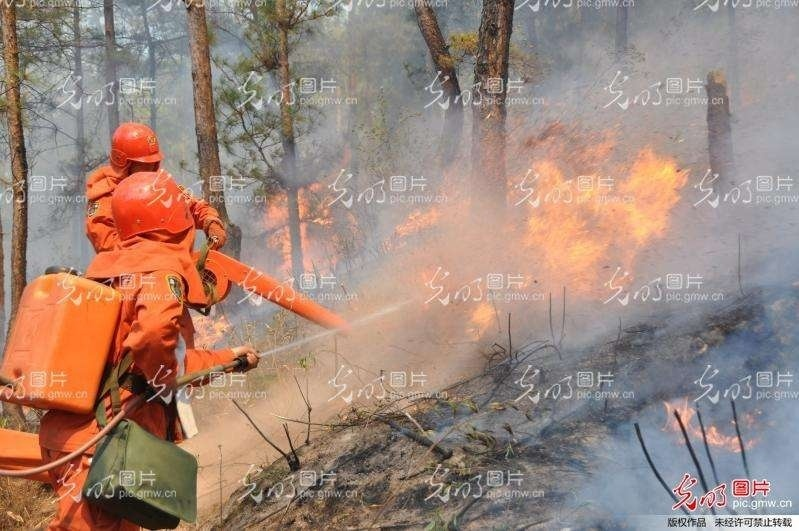fire: (502, 125, 686, 302), (264, 167, 353, 279), (655, 399, 765, 453)
